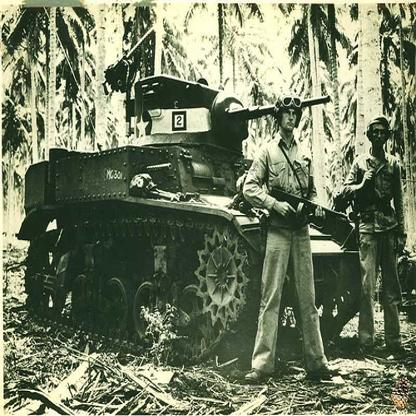Tank: (21, 66, 369, 385)
